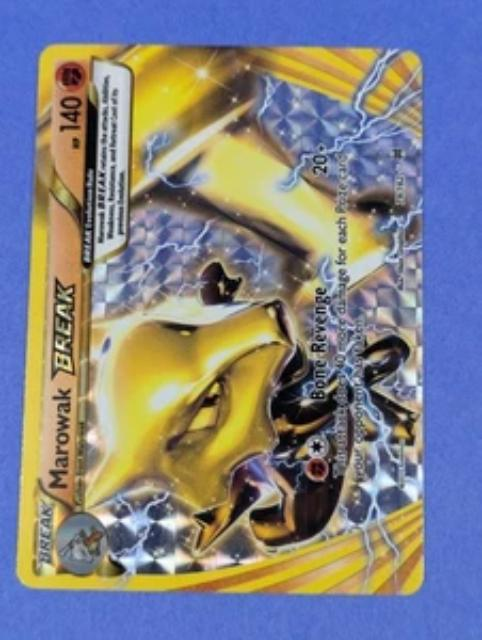Card: (9, 39, 434, 601)
Name: (37, 262, 82, 503)
